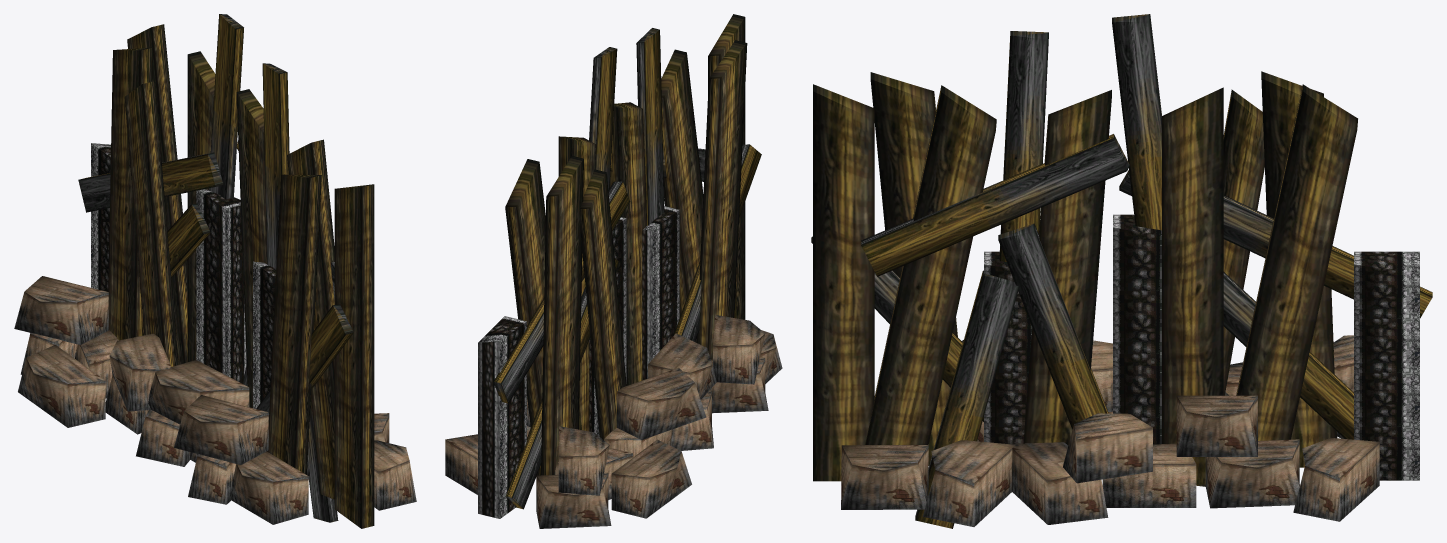
File: CB_WOOD_BARACADE01.obj
The picture shows the model from 3 angles, left to right: view 1: azimuth 30°, elevation 25°; view 2: azimuth 150°, elevation 25°; view 3: azimuth 270°, elevation 25°; orthographic projection. The views are drawn at different scales.
Parts seen in each view (by area): view 1: wood_baracade01; view 2: wood_baracade01; view 3: wood_baracade01.
Part boxes in pixels (x1,y1,x2,y2): wood_baracade01: (14,14,416,528); wood_baracade01: (445,14,782,528); wood_baracade01: (811,14,1432,528).
Bounding box in the file's own units: 221 × 413 × 460.
